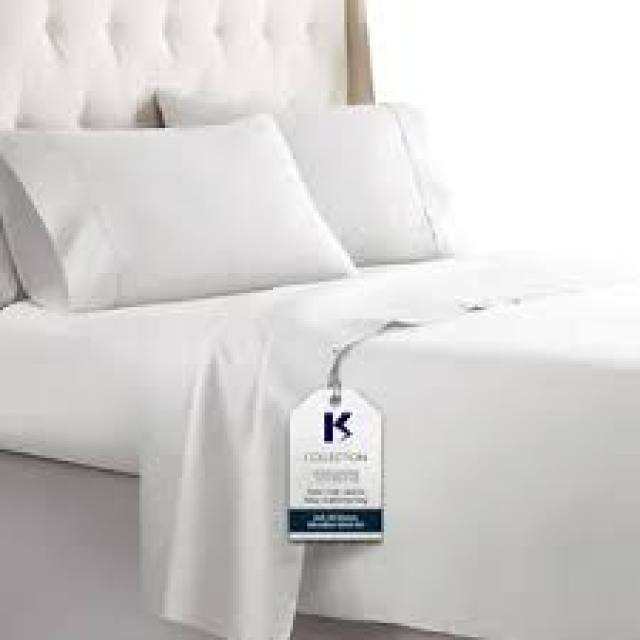bed: (0, 88, 637, 637)
